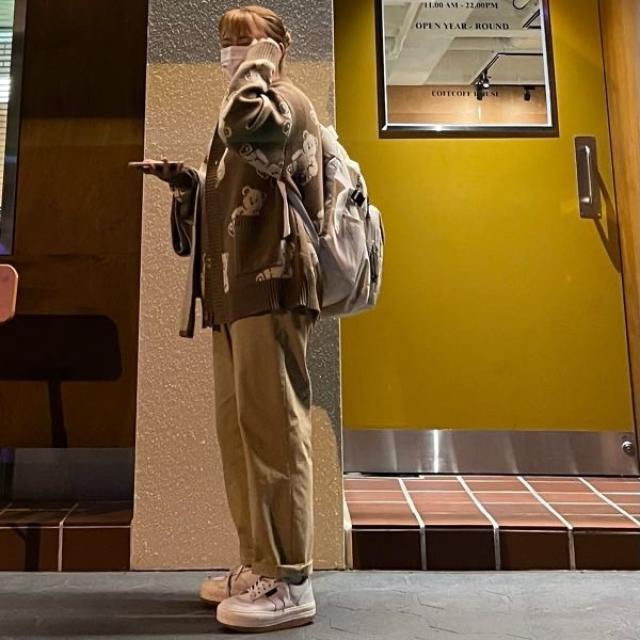cardigan: (190, 70, 329, 328)
cottonpants: (207, 302, 324, 575)
